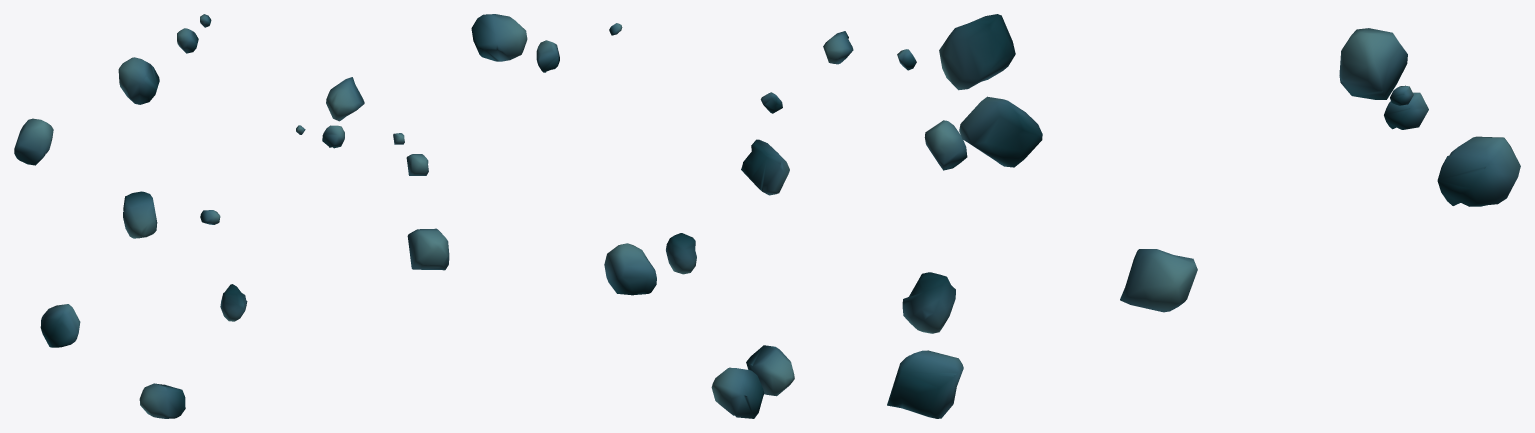
File: Floating_Rocks_Bioma1.fbx
3 views of the same model, side by side, from view 1: azimuth 30°, elevation 25°; view 2: azimuth 150°, elevation 25°; view 3: azimuth 270°, elevation 25° (orthographic). The views are drawn at different scales.
Parts seen in each view (by area): view 1: Folliage_Floating_Rock1_0_1.004, Folliage_Floating_Rock1_0_1.007, Folliage_Floating_Rock1_0_1.008, Folliage_Floating_Rock1_0_1.011, Folliage_Floating_Rock1_0_1.012, Folliage_Floating_Rock1_0_1.010, Folliage_Floating_Rock1_0_1.013, Folliage_Floating_Rock1_0_1.009, Folliage_Floating_Rock1_0_1.016; view 2: Folliage_Floating_Rock1_0_1.008, Folliage_Floating_Rock1_0_1.010, Folliage_Floating_Rock1_0_1.007, Folliage_Floating_Rock1_0_1.011, Folliage_Floating_Rock1_0_1.012, Folliage_Floating_Rock1_0_1.004, Folliage_Floating_Rock1_0_1.013, Folliage_Floating_Rock1_0_1.009, Folliage_Floating_Rock1_0_1.016; view 3: Folliage_Floating_Rock1_0_1.004, Folliage_Floating_Rock1_0_1.011, Folliage_Floating_Rock1_0_1.008, Folliage_Floating_Rock1_0_1.010, Folliage_Floating_Rock1_0_1.012, Folliage_Floating_Rock1_0_1.007, Folliage_Floating_Rock1_0_1.013, Folliage_Floating_Rock1_0_1.009, Folliage_Floating_Rock1_0_1.016, Folliage_Floating_Rock1_0_1.015.
Boxes of the visible parts, bbox=[...] form: Folliage_Floating_Rock1_0_1.004: bbox=[118, 57, 159, 104]; Folliage_Floating_Rock1_0_1.007: bbox=[40, 304, 80, 347]; Folliage_Floating_Rock1_0_1.008: bbox=[14, 118, 53, 165]; Folliage_Floating_Rock1_0_1.011: bbox=[123, 191, 157, 238]; Folliage_Floating_Rock1_0_1.012: bbox=[139, 383, 185, 418]; Folliage_Floating_Rock1_0_1.010: bbox=[326, 77, 364, 121]; Folliage_Floating_Rock1_0_1.013: bbox=[220, 284, 247, 321]; Folliage_Floating_Rock1_0_1.009: bbox=[322, 125, 344, 148]; Folliage_Floating_Rock1_0_1.016: bbox=[177, 28, 198, 53]; Folliage_Floating_Rock1_0_1.008: bbox=[604, 243, 656, 295]; Folliage_Floating_Rock1_0_1.010: bbox=[471, 14, 527, 61]; Folliage_Floating_Rock1_0_1.007: bbox=[711, 367, 764, 418]; Folliage_Floating_Rock1_0_1.011: bbox=[741, 139, 789, 195]; Folliage_Floating_Rock1_0_1.012: bbox=[746, 345, 794, 396]; Folliage_Floating_Rock1_0_1.004: bbox=[407, 228, 449, 270]; Folliage_Floating_Rock1_0_1.013: bbox=[666, 233, 696, 274]; Folliage_Floating_Rock1_0_1.009: bbox=[536, 40, 559, 72]; Folliage_Floating_Rock1_0_1.016: bbox=[406, 154, 428, 175]; Folliage_Floating_Rock1_0_1.004: bbox=[1437, 136, 1520, 206]; Folliage_Floating_Rock1_0_1.011: bbox=[939, 14, 1015, 90]; Folliage_Floating_Rock1_0_1.008: bbox=[1339, 28, 1407, 99]; Folliage_Floating_Rock1_0_1.010: bbox=[959, 96, 1042, 167]; Folliage_Floating_Rock1_0_1.012: bbox=[887, 350, 963, 418]; Folliage_Floating_Rock1_0_1.007: bbox=[1120, 249, 1197, 312]; Folliage_Floating_Rock1_0_1.013: bbox=[902, 272, 955, 333]; Folliage_Floating_Rock1_0_1.009: bbox=[924, 120, 967, 170]; Folliage_Floating_Rock1_0_1.016: bbox=[1384, 92, 1428, 129]; Folliage_Floating_Rock1_0_1.015: bbox=[823, 31, 853, 64].
Size of the model in its own units: 1048 by 989 by 1261.
